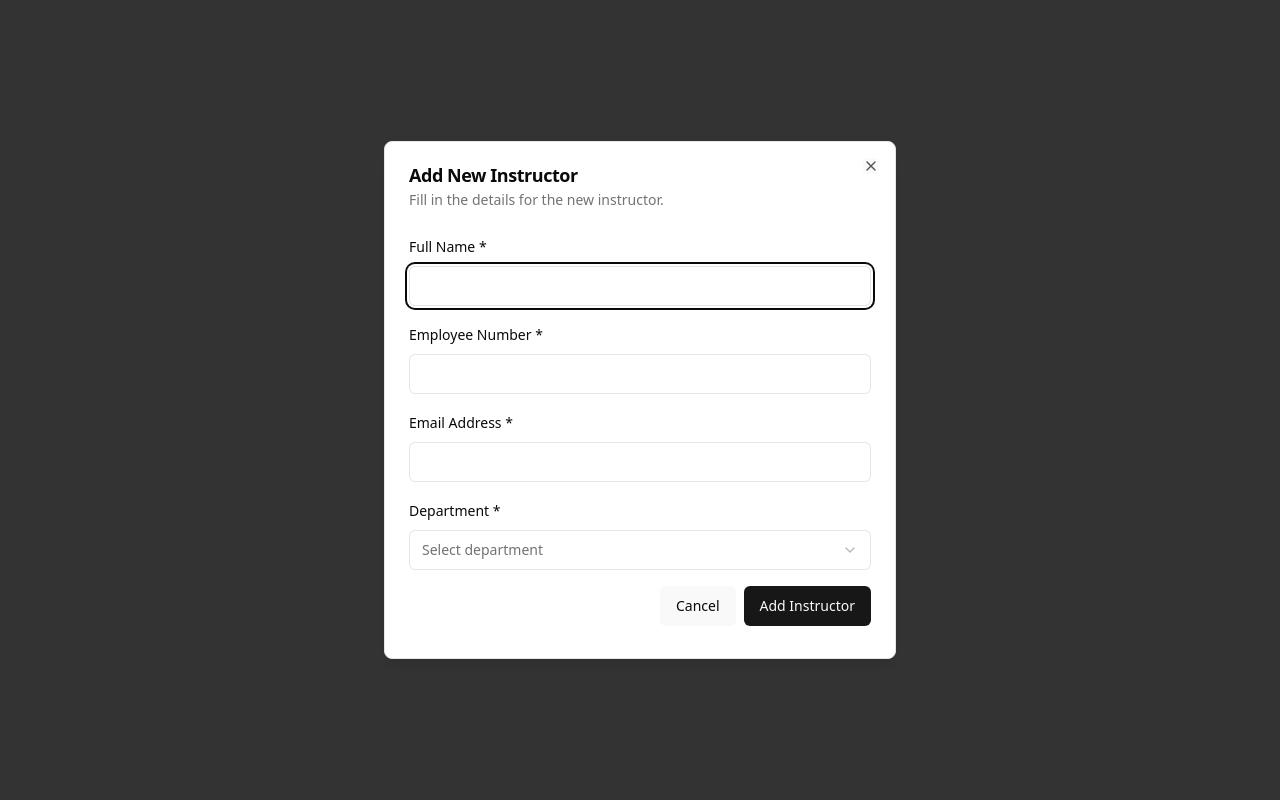
Scenario: AddInstructorModal › shows an error for a duplicate email
The image size is (1280, 800).
Type "John Doe" into the field labelled "Full Name *" at [640, 286], box [409,266,871,306]
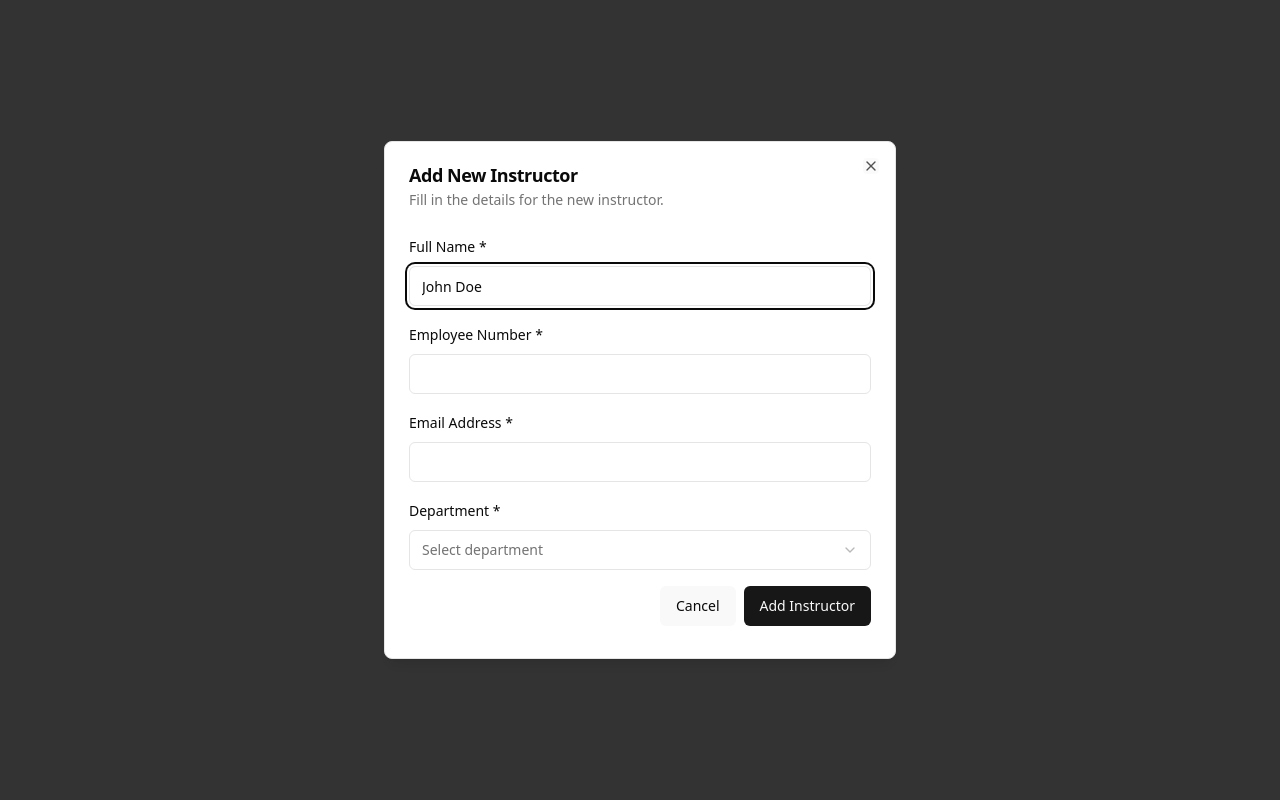
Type "12345678" into the field labelled "Employee Number *" at [640, 374], box [409,354,871,394]
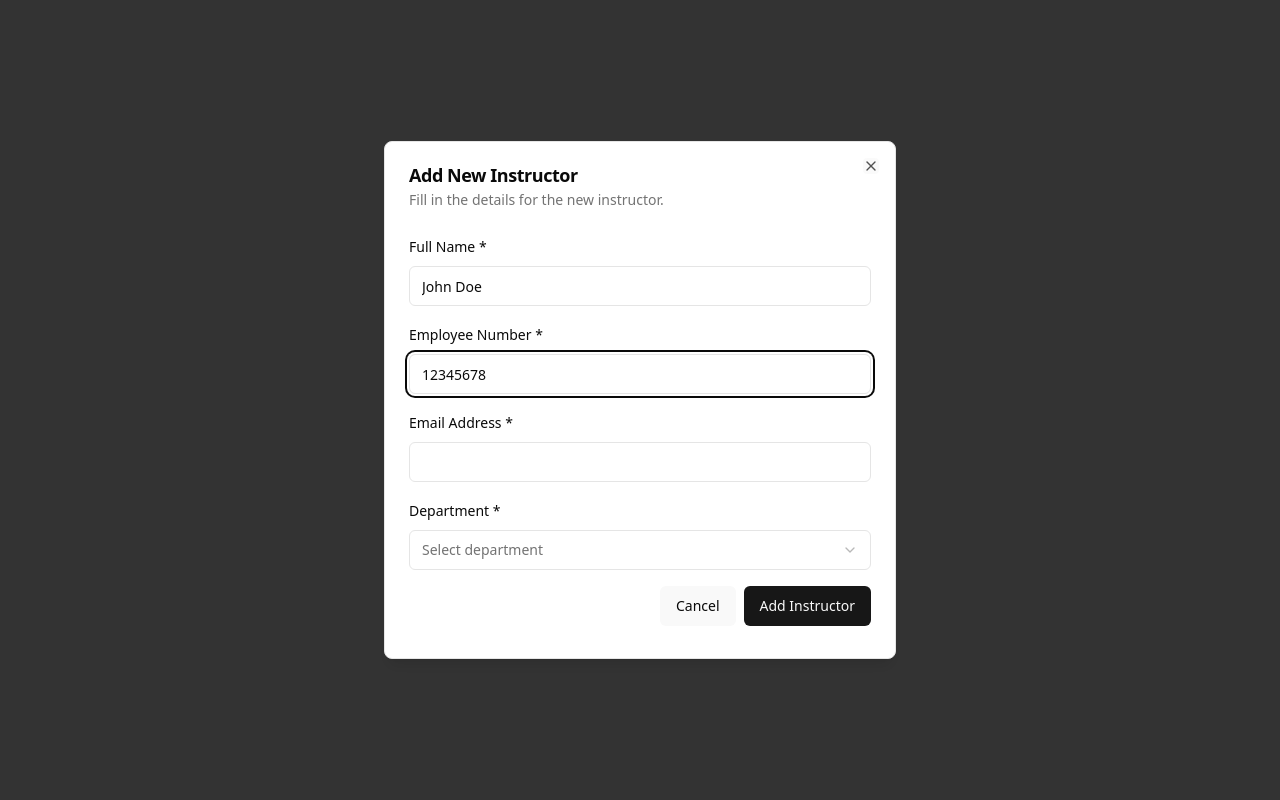
Type "john@test.com" into the field labelled "Email Address *" at [640, 462], box [409,442,871,482]
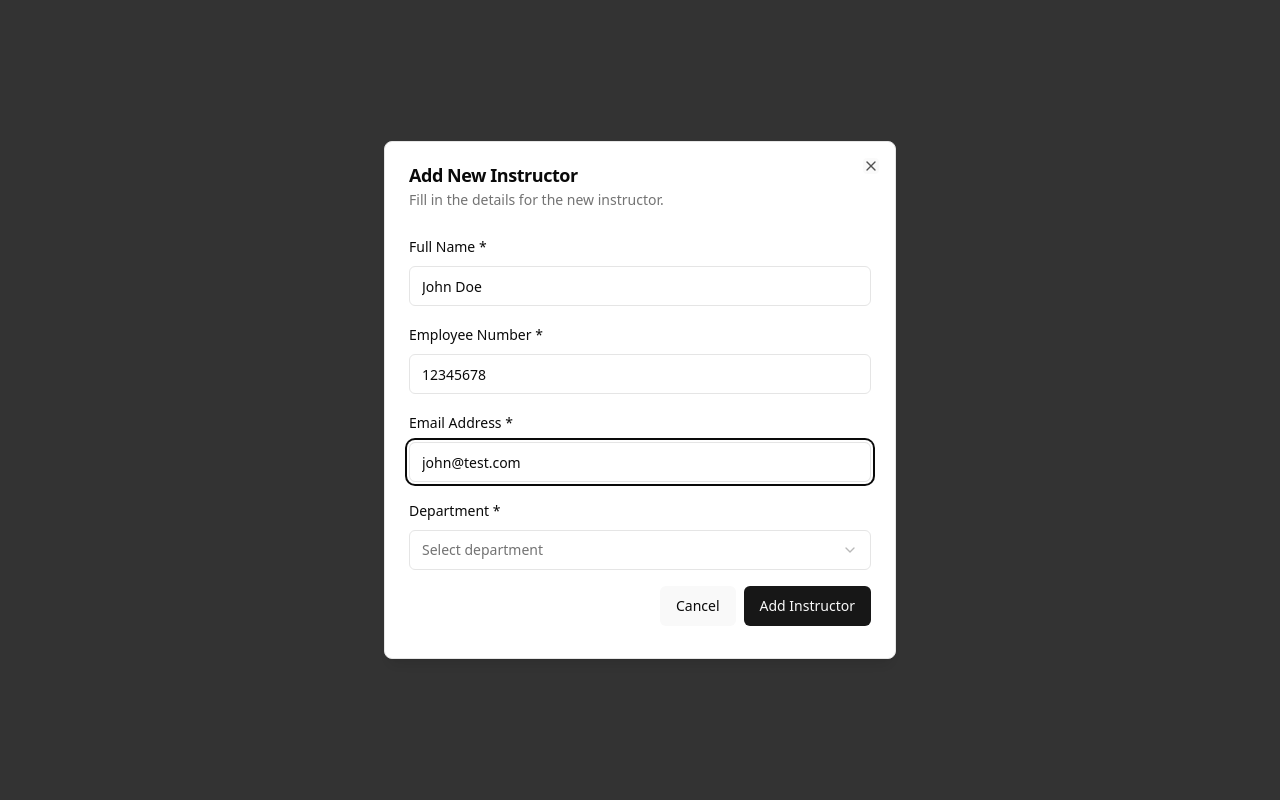
Click the dropdown at [483, 550], box [409,530,871,570]
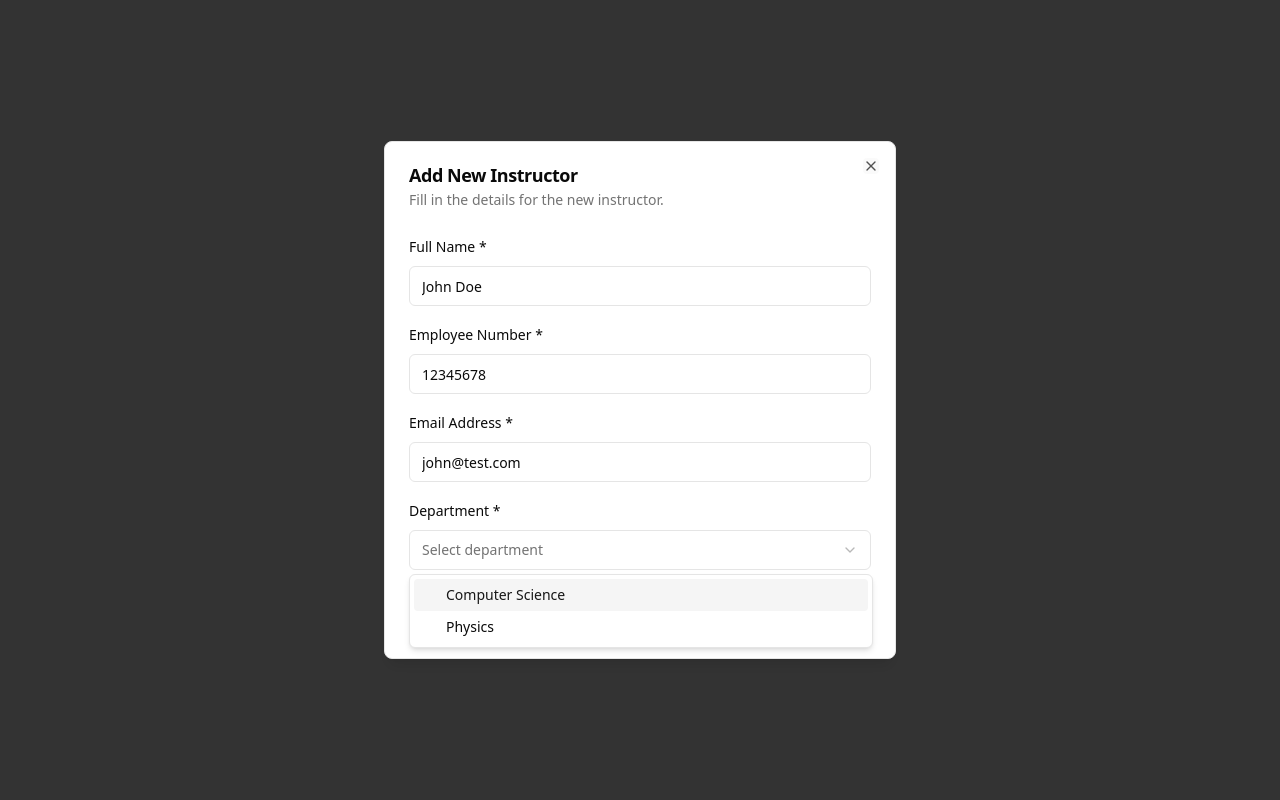
Click the option "Physics" at [470, 626], box [446,617,494,636]
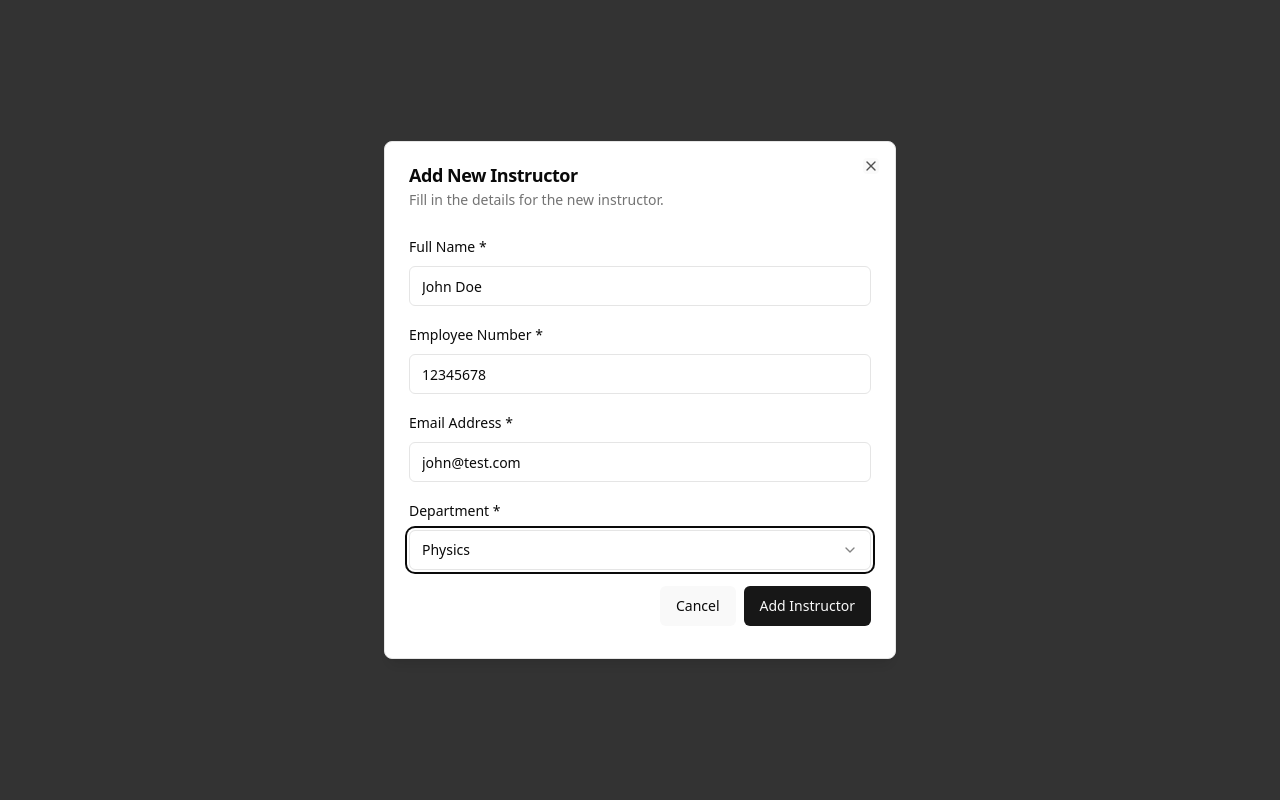
Click the button "Add Instructor" at [807, 606], box [744,586,871,626]
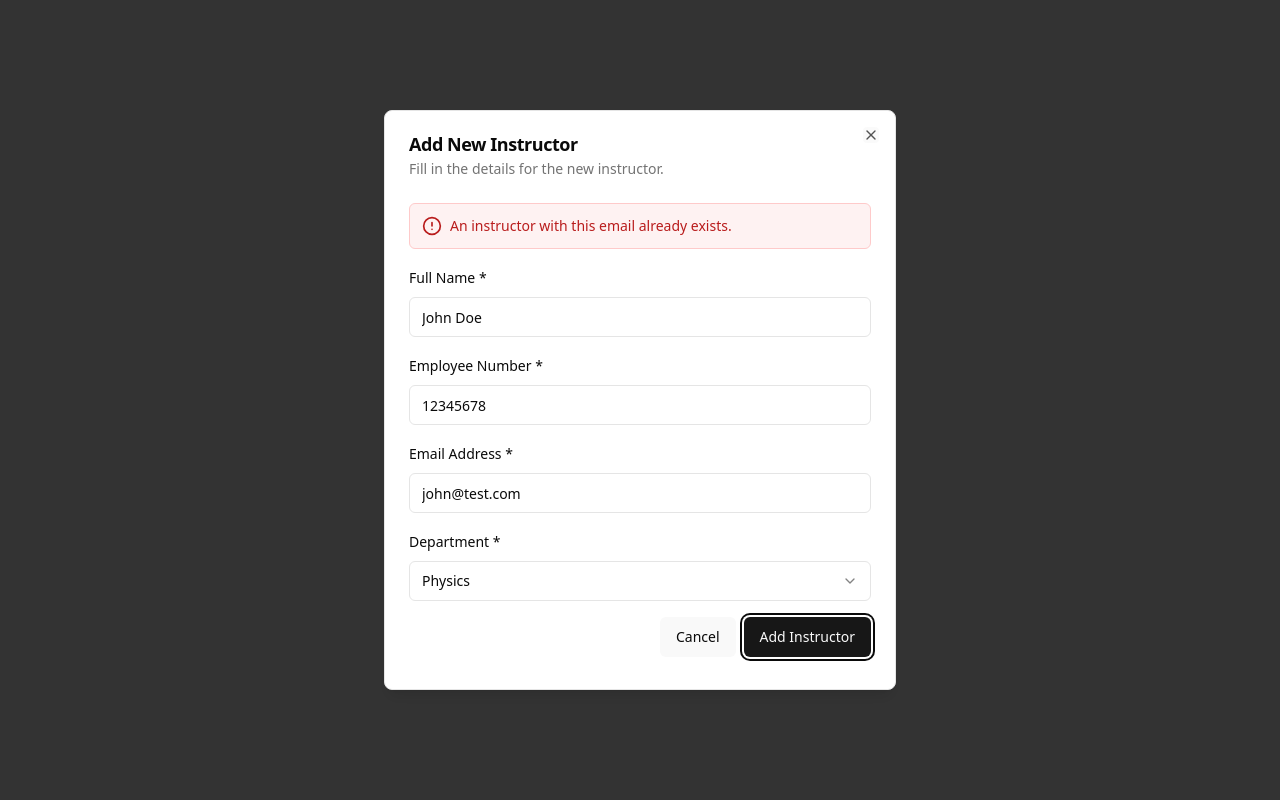
Expected: the text "An instructor with this email already exists." is shown, [450,216,732,236]
